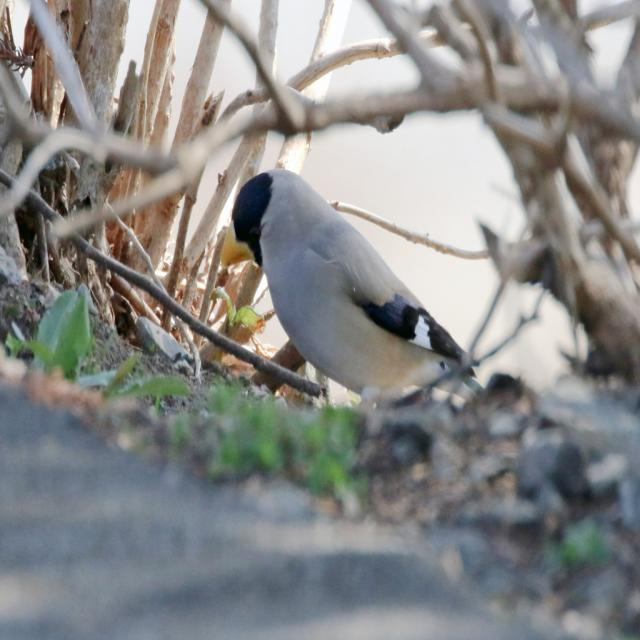bird: (228, 172, 505, 426)
